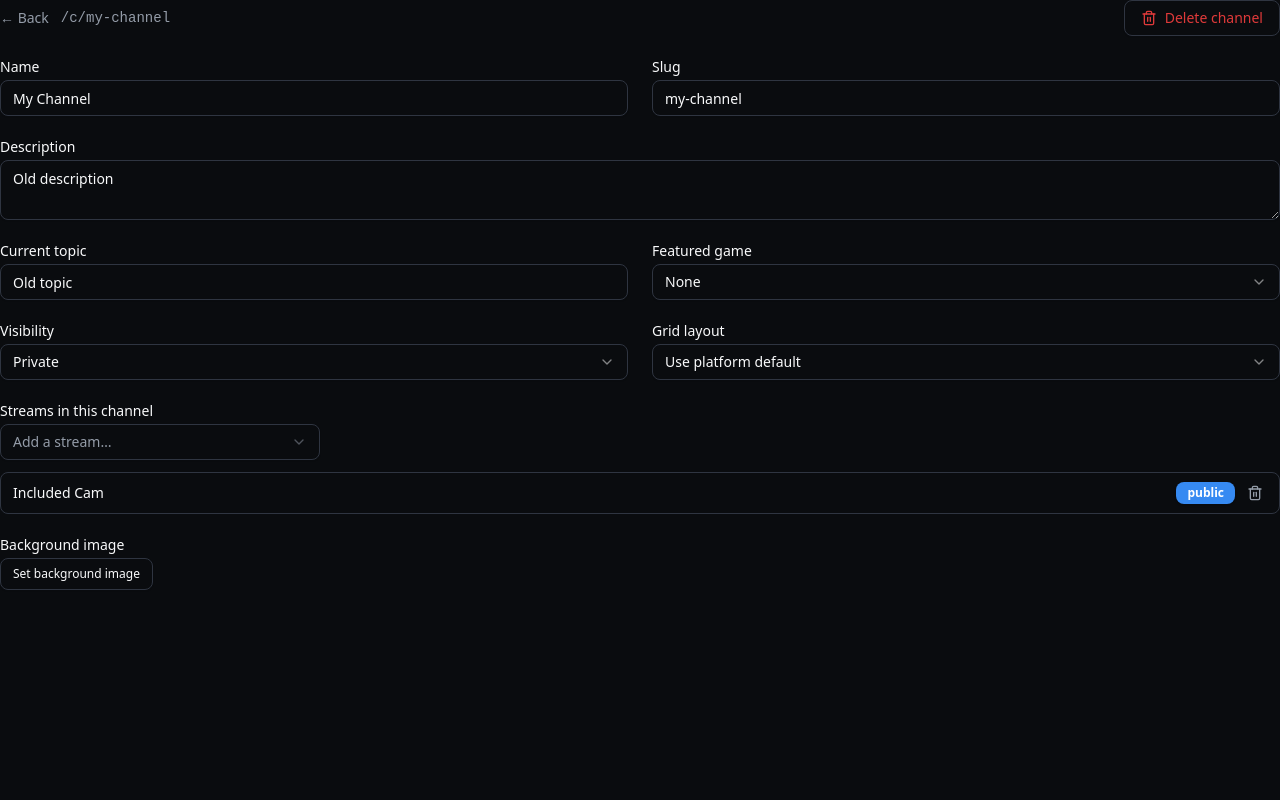
Test case: ChannelEditForm › filters the picker candidates by a search query
Step 1. Click the dropdown labelled "Add a stream" → (62, 442), box [0,424,320,460]
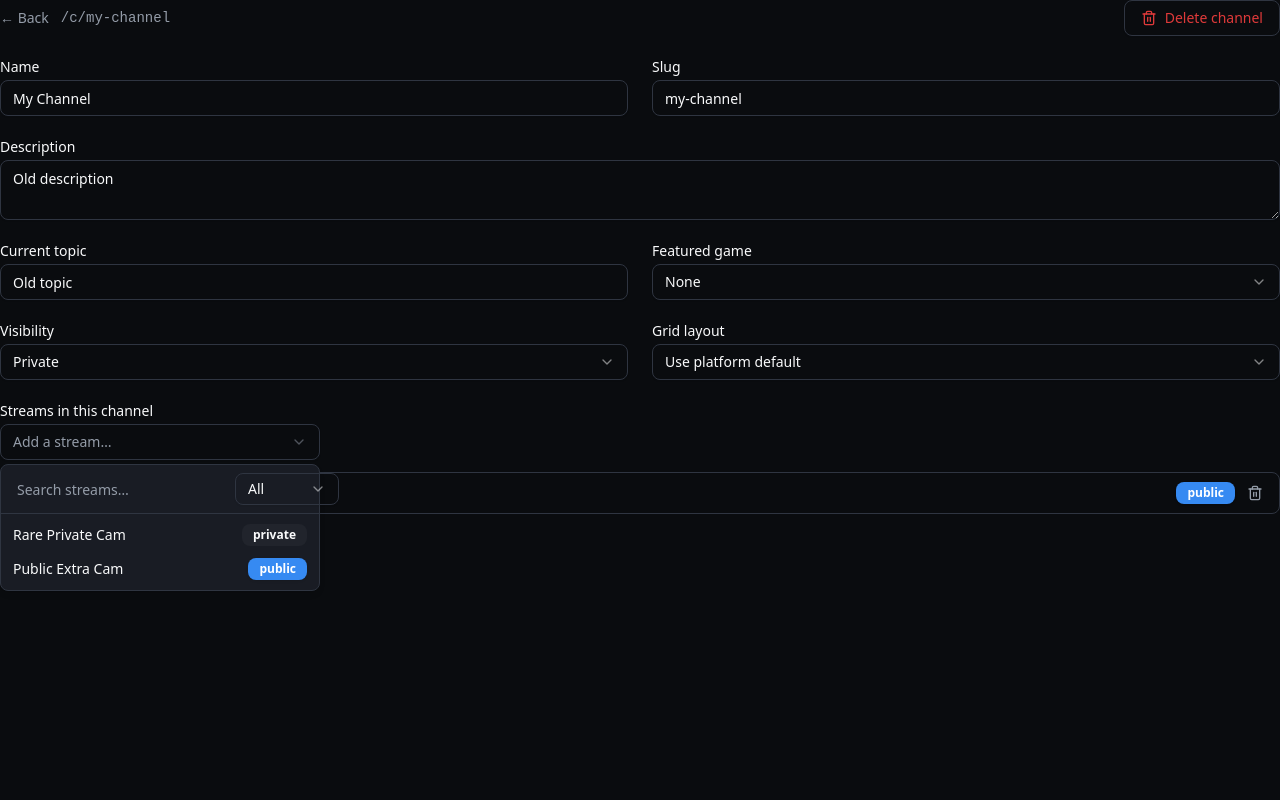
Step 2. Type "Rare" into the field labelled "Search streams" → (118, 489), box [9,473,227,505]
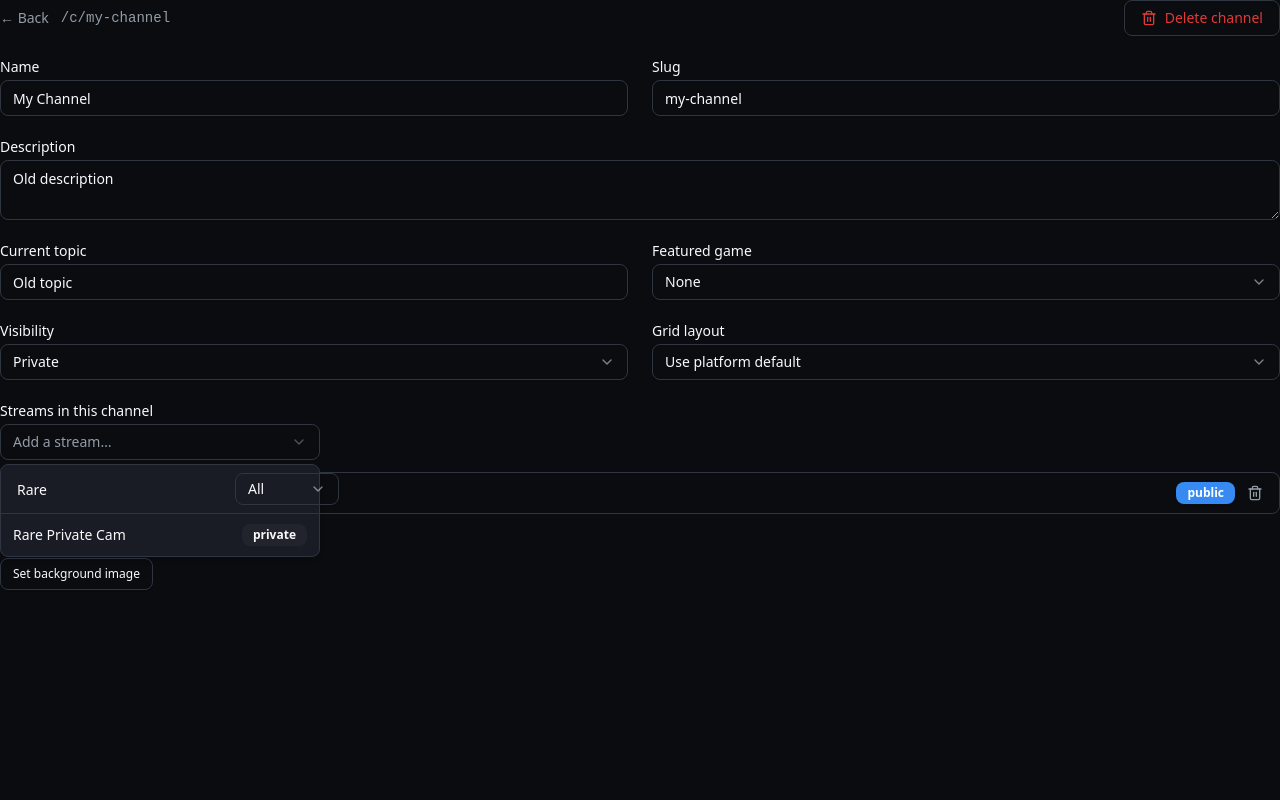
Expected: the option "Rare Private Cam private" is shown, [5,518,315,552]
Expected: the option "Public Extra Cam" is gone
